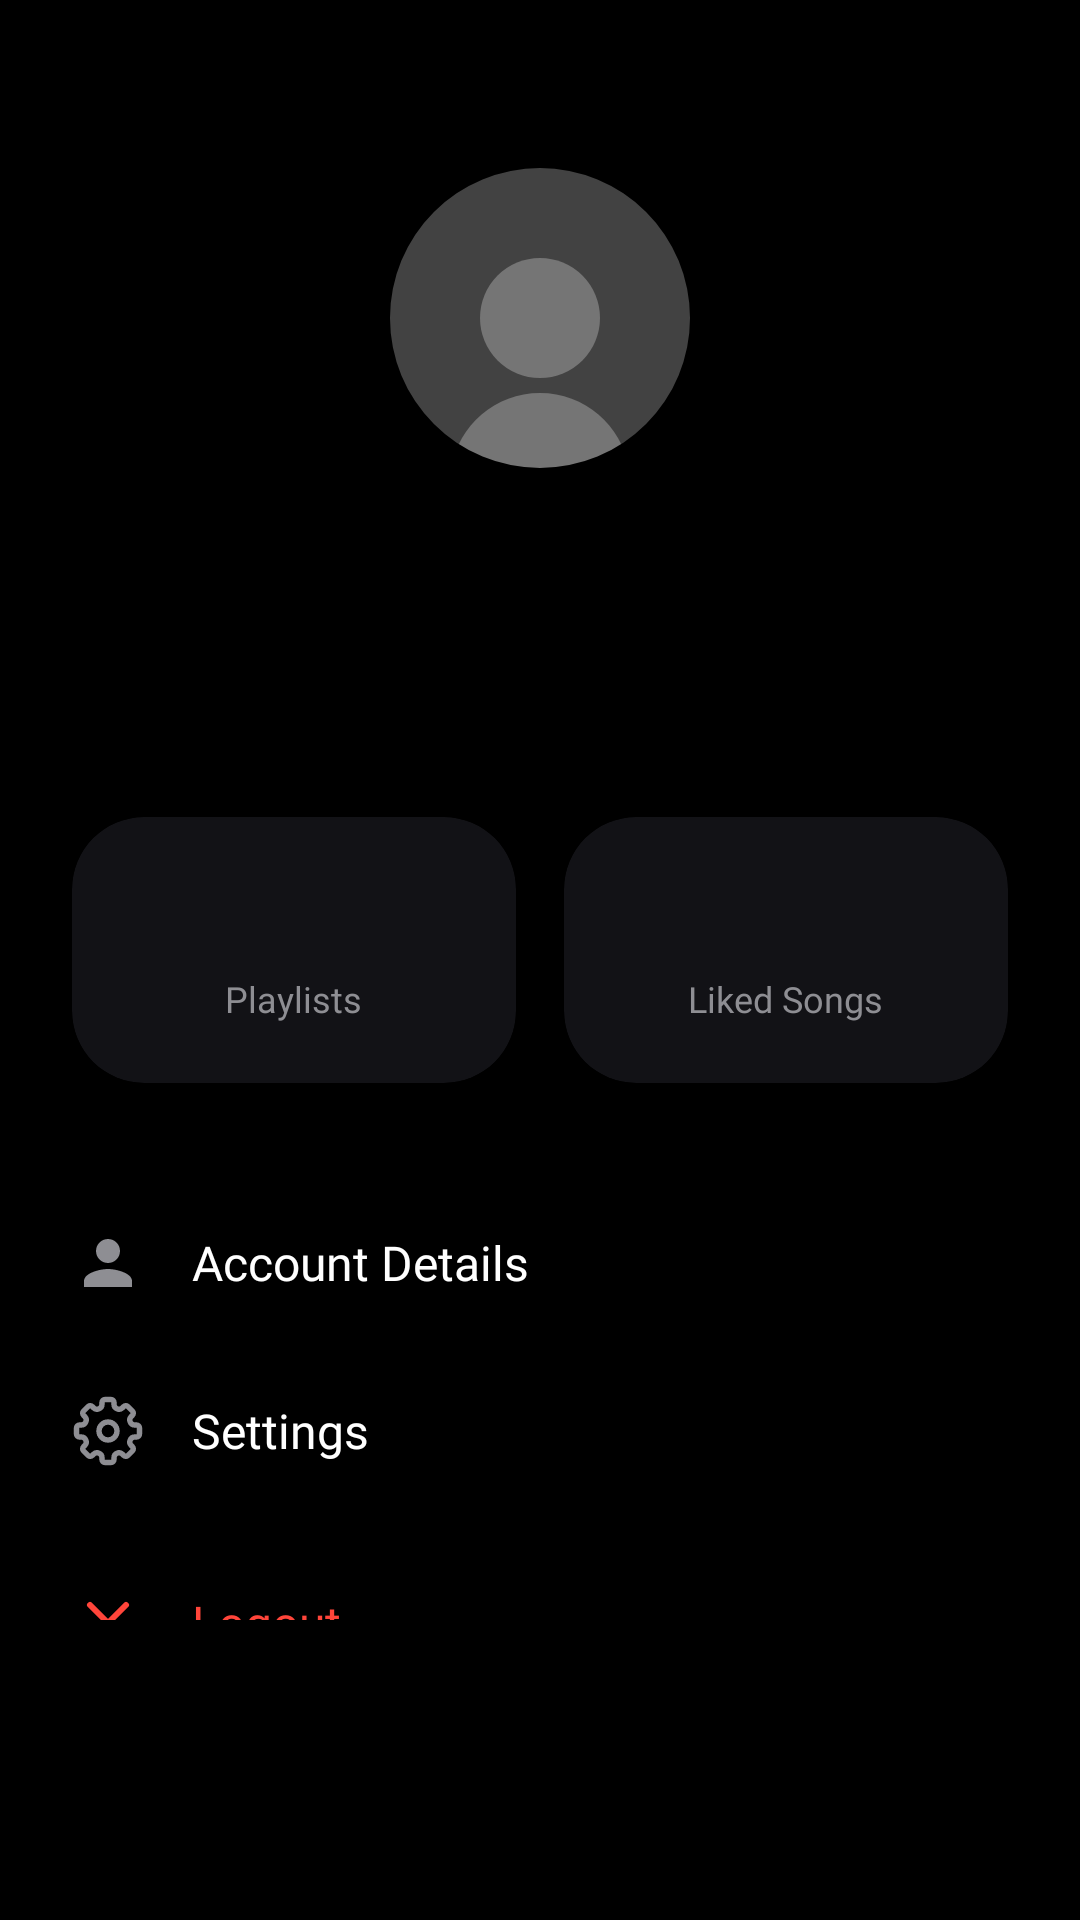

Icon bounding boxes for this 1080px×1920px phone screenshot, format bbox(x1, y1, x2, y2):
person: bbox(84, 1239, 132, 1287)
